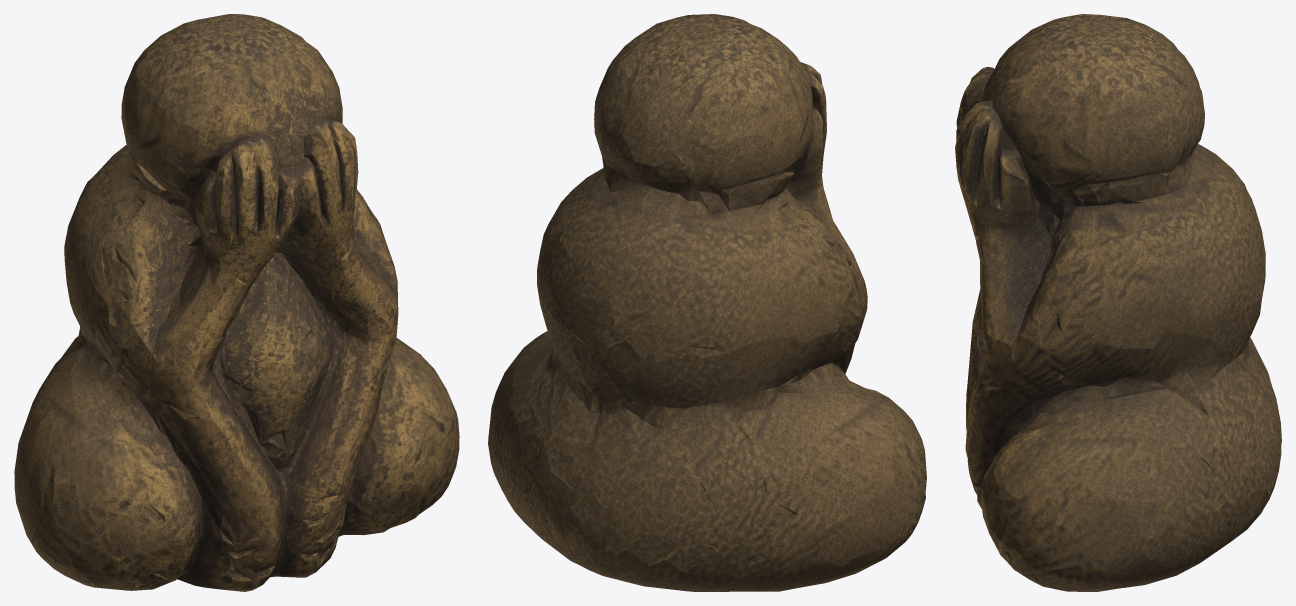
The model's file is remeshed-pidta.glb.
3 renders of one model, left to right at view 1: azimuth 30°, elevation 25°; view 2: azimuth 150°, elevation 25°; view 3: azimuth 270°, elevation 25°, orthographic. The views are drawn at different scales.
Parts seen in each view (by area): view 1: output_unwrapped; view 2: output_unwrapped; view 3: output_unwrapped.
Boxes of the visible parts, x1,y1,x2,y2 form: output_unwrapped: [14, 14, 459, 591]; output_unwrapped: [488, 14, 926, 591]; output_unwrapped: [955, 14, 1281, 591].
Bounding box in the file's own units: 1.53 × 1.9 × 1.1.
1 material, 1 textured.
